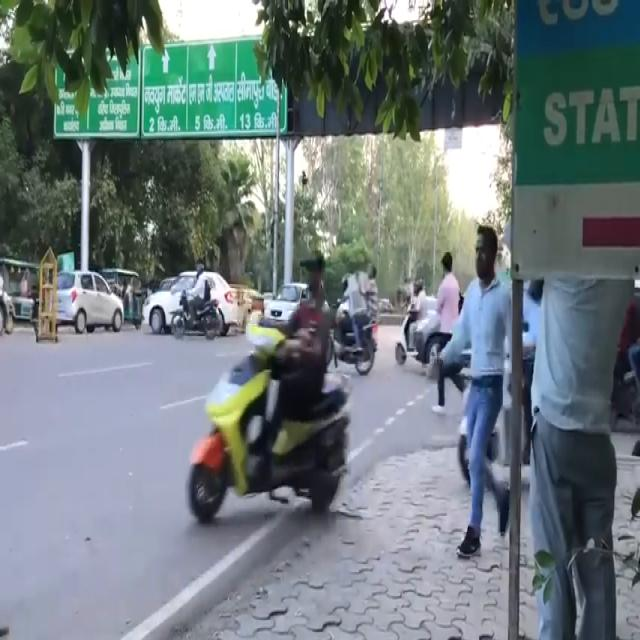MOTORCYCLE: (186, 301, 345, 518), (334, 302, 376, 373), (171, 290, 223, 343)
